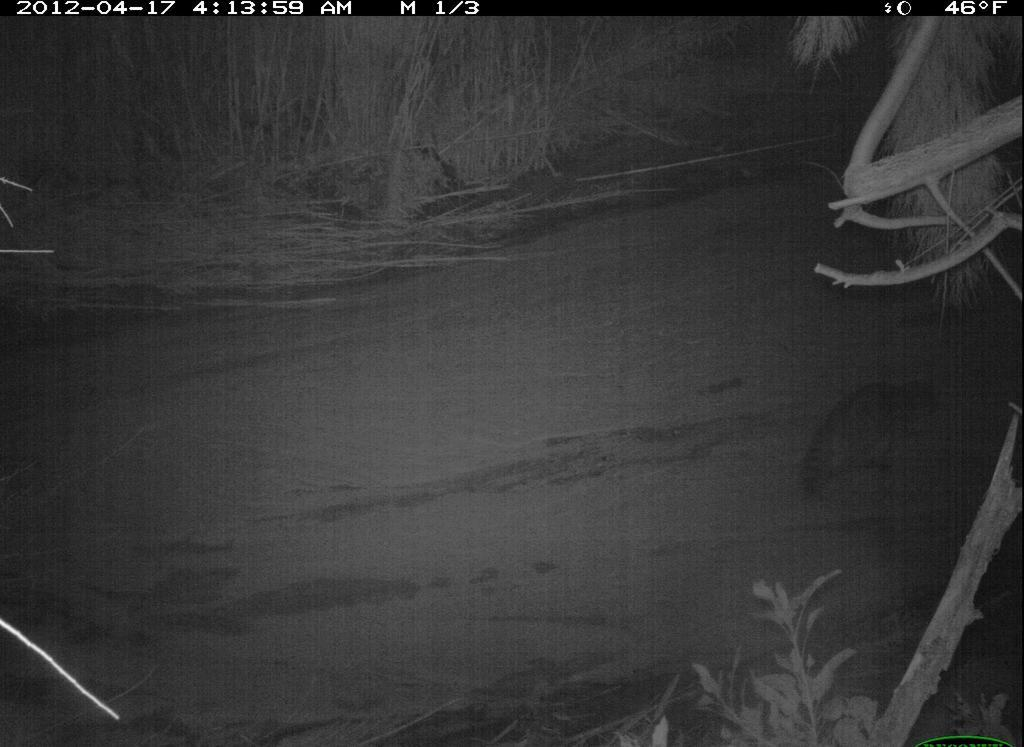raccoon: (782, 362, 962, 512)
